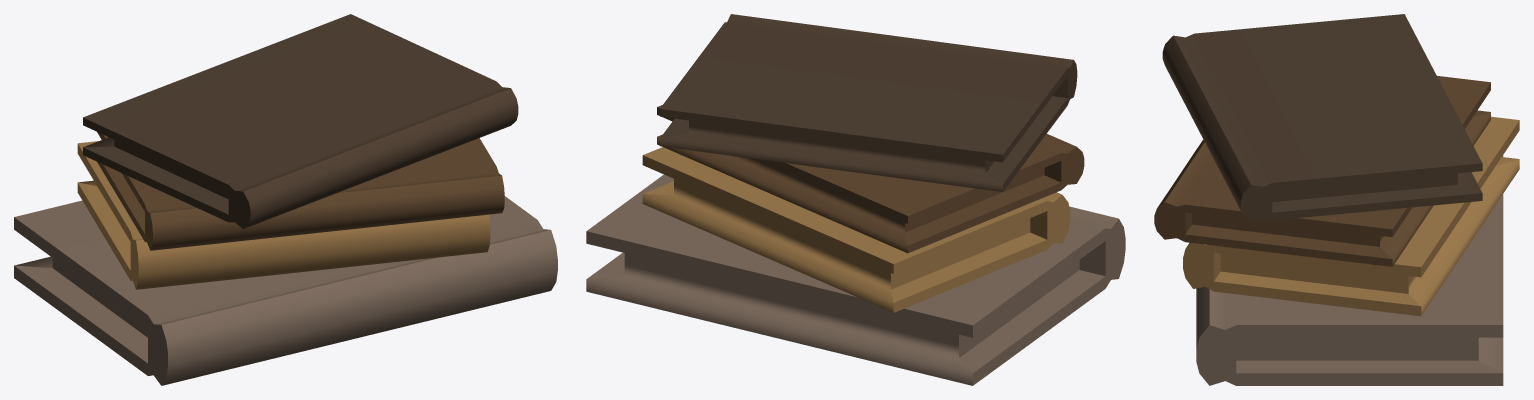
File: 2 colored books4 set.fbx
3 views of the same model, side by side, from view 1: azimuth 30°, elevation 25°; view 2: azimuth 150°, elevation 25°; view 3: azimuth 270°, elevation 25° (orthographic).
Parts seen in each view (by area): view 1: pCube4, pCube1, pCube3, pCube2; view 2: pCube4, pCube1, pCube2, pCube3; view 3: pCube4, pCube1, pCube2, pCube3.
Boxes of the visible parts, <box> form: pCube4: <box>83,14,518,228</box>; pCube1: <box>14,196,557,385</box>; pCube3: <box>97,132,504,250</box>; pCube2: <box>77,141,490,289</box>; pCube4: <box>660,14,1077,191</box>; pCube1: <box>586,174,1125,385</box>; pCube2: <box>642,147,1070,312</box>; pCube3: <box>657,105,1084,253</box>; pCube4: <box>1162,14,1482,222</box>; pCube1: <box>1196,155,1503,385</box>; pCube2: <box>1183,116,1519,316</box>; pCube3: <box>1154,76,1490,266</box>.
Bounding box in the file's own units: 0.3103 × 0.1462 × 0.2526.
